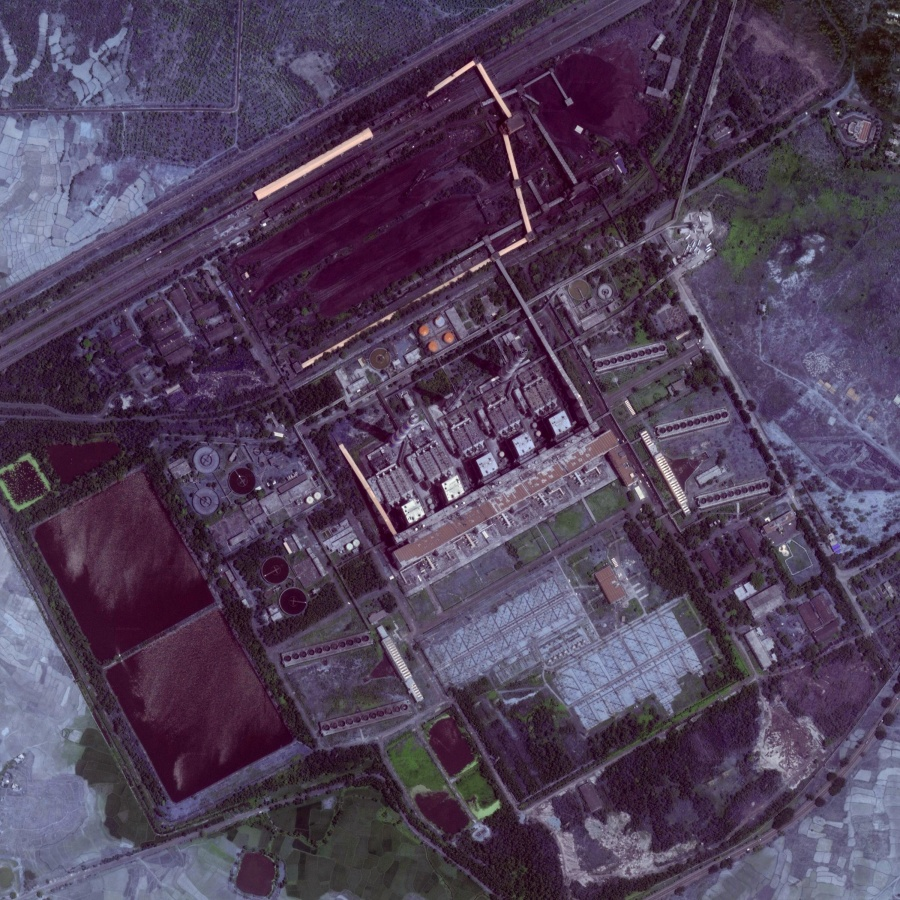PowerPlant: (219, 10, 643, 387), (5, 444, 368, 848)
